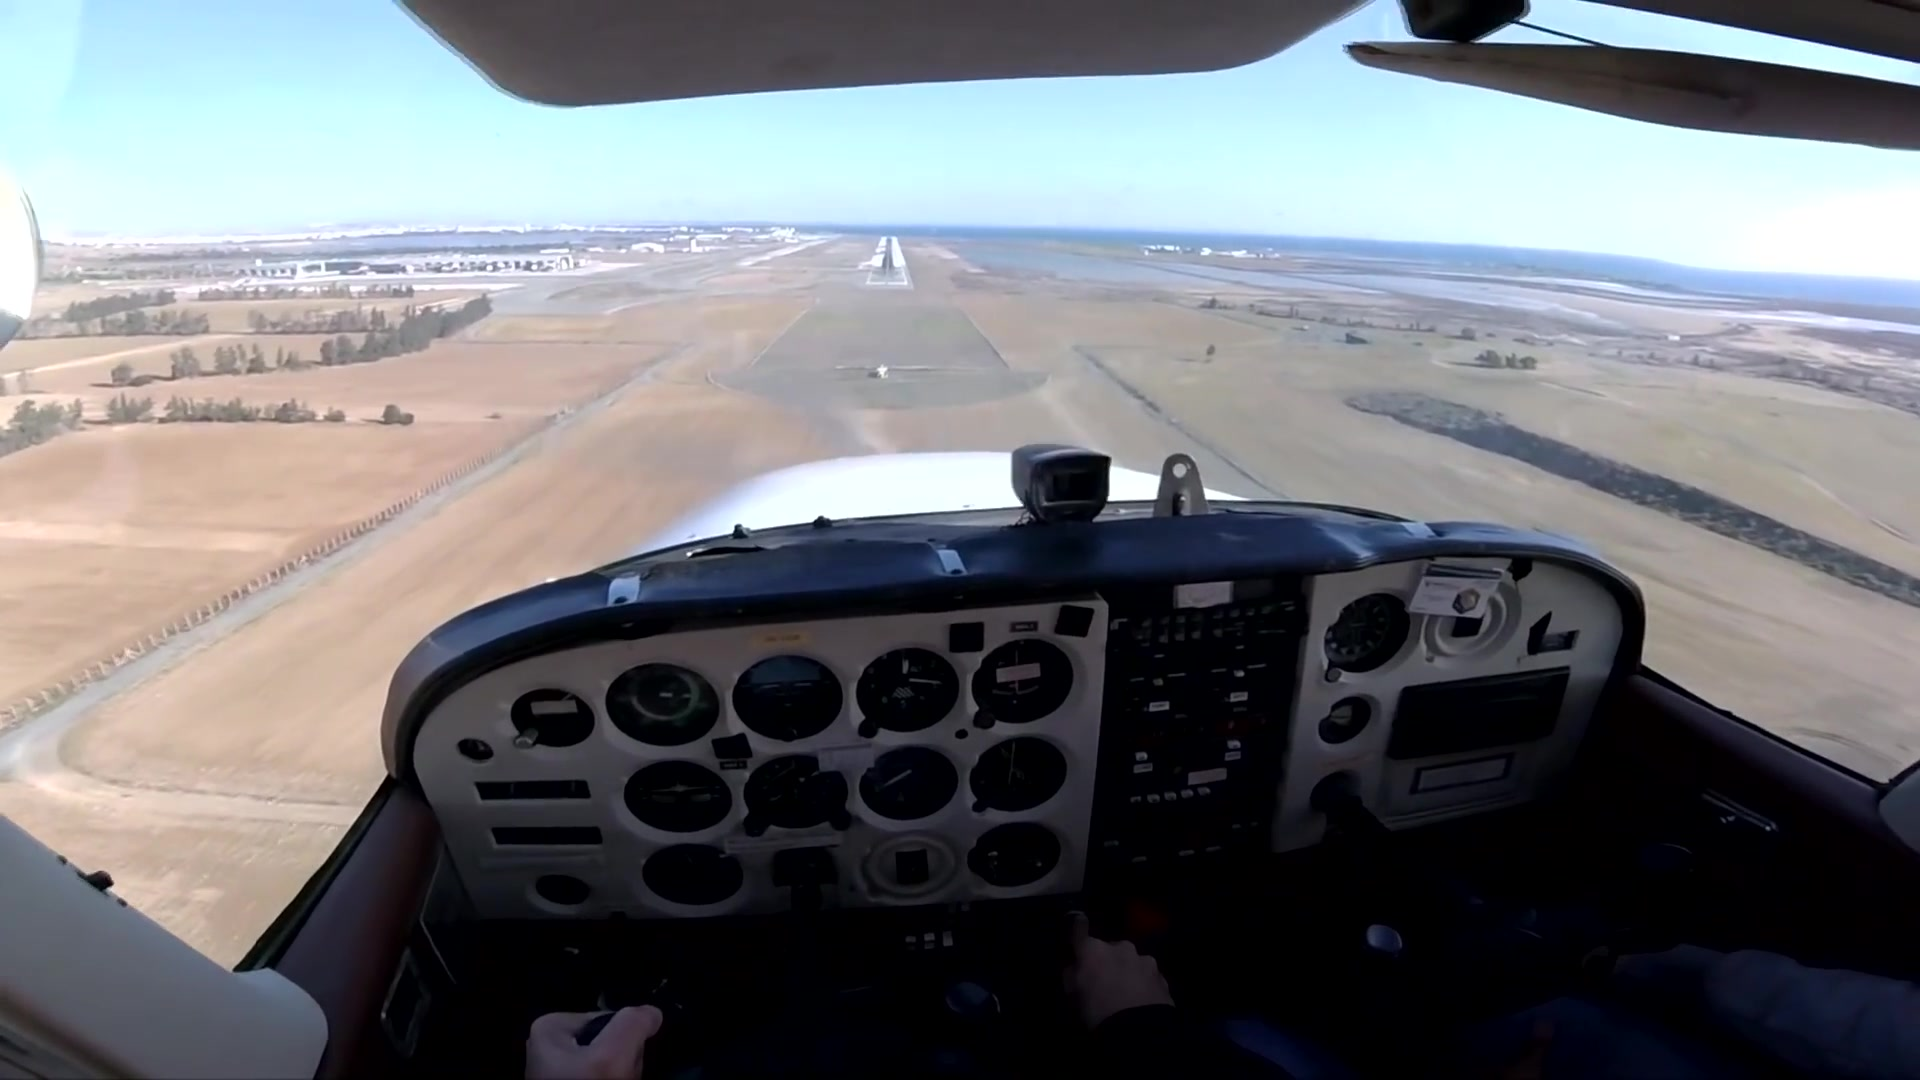runway: (864, 240, 913, 287)
